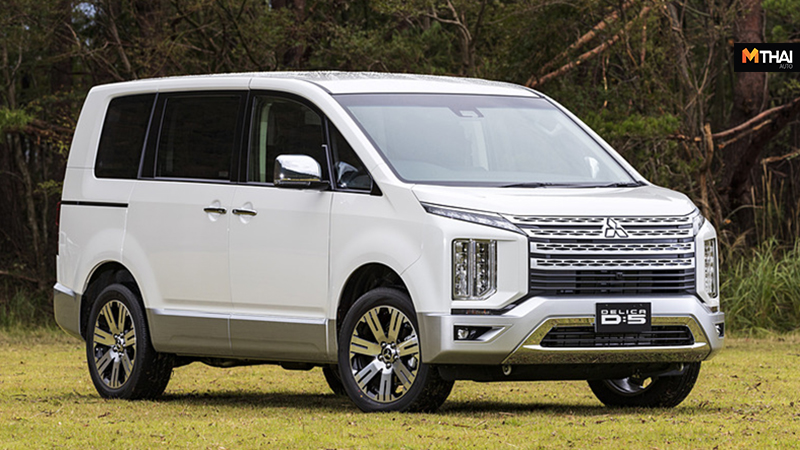van: (48, 68, 723, 413)
